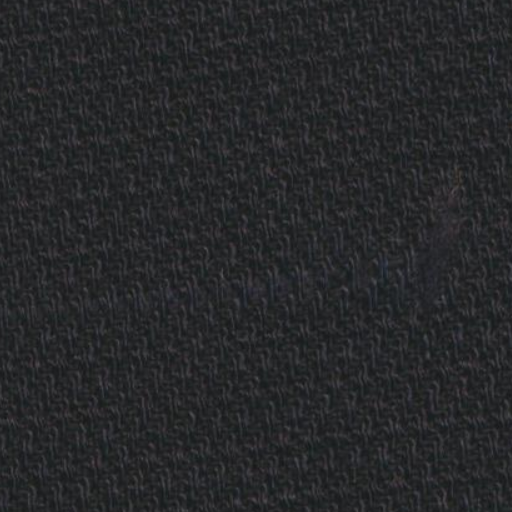DaiSha: (396, 154, 470, 367)
